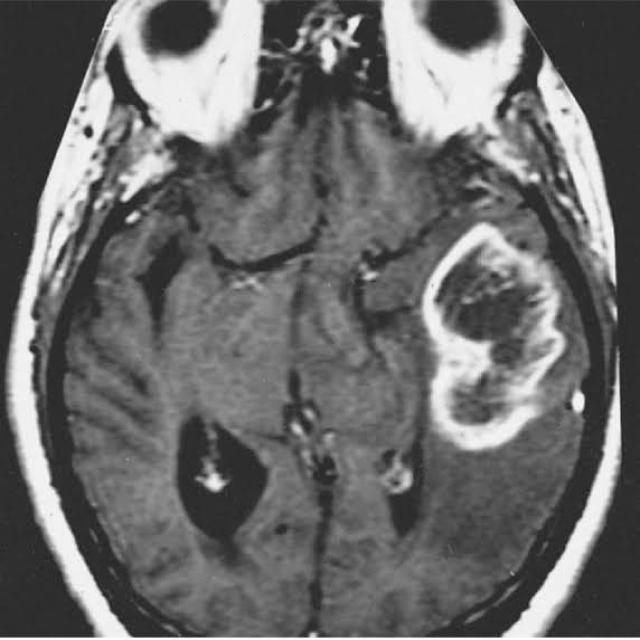glioma: (423, 212, 567, 447), (173, 408, 275, 544)
